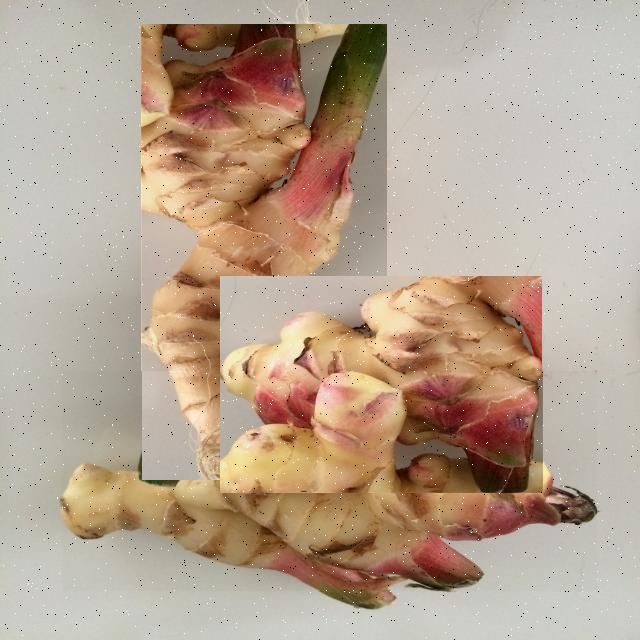ginger: (61, 370, 595, 590), (141, 23, 385, 479), (219, 275, 540, 491)
